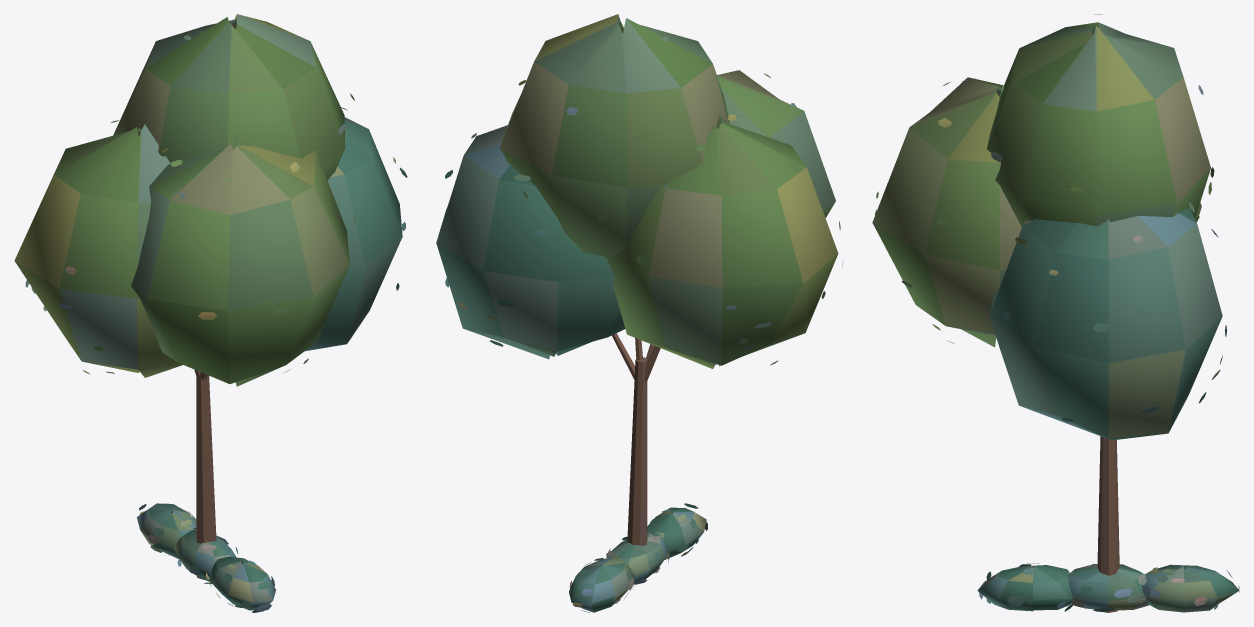
The model's file is ART_TownTree.glb.
3 views of the same model, side by side, from view 1: azimuth 30°, elevation 25°; view 2: azimuth 150°, elevation 25°; view 3: azimuth 270°, elevation 25° (orthographic). The views are drawn at different scales.
Visible parts, largest first — view 1: ART_TownTree; view 2: ART_TownTree; view 3: ART_TownTree.
Part boxes in pixels (x1,y1,x2,y2): ART_TownTree: (14,14,407,612); ART_TownTree: (436,14,843,612); ART_TownTree: (872,14,1239,612).
Bounding box in the file's own units: 7.63 × 10.93 × 6.08.
